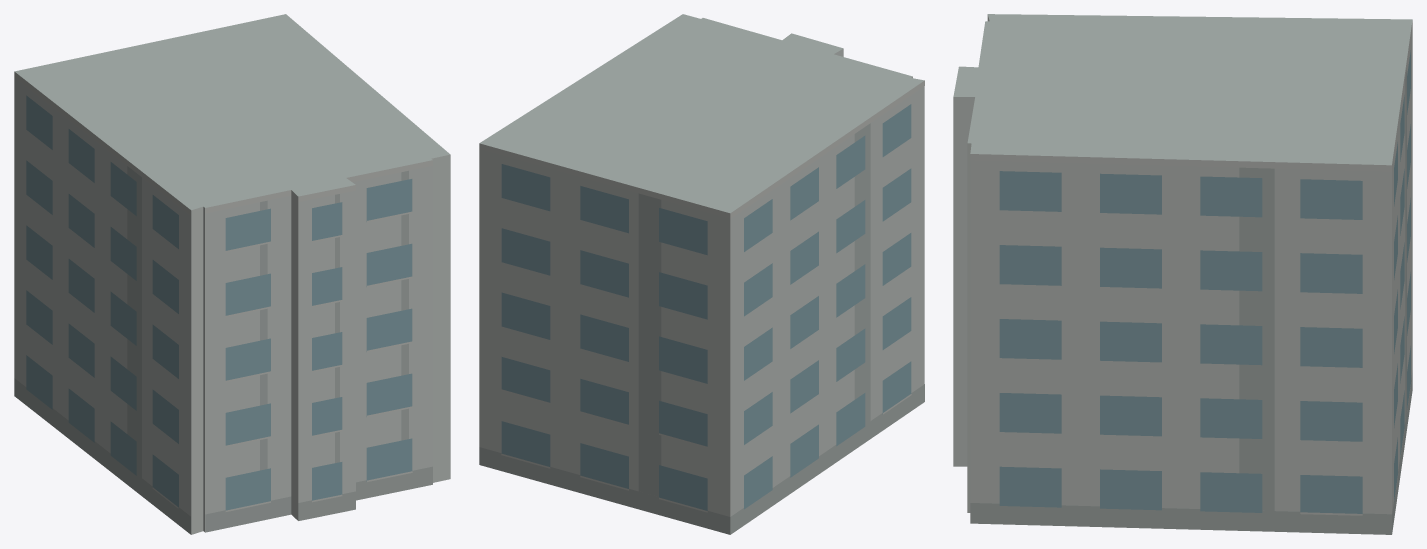
Rendered from survey-upis-32894380.glb.
3 views of the same model, side by side, from view 1: azimuth 30°, elevation 25°; view 2: azimuth 150°, elevation 25°; view 3: azimuth 270°, elevation 25° (orthographic). The views are drawn at different scales.
Parts seen in each view (by area): view 1: survey-upis-32894380.tmp; view 2: survey-upis-32894380.tmp; view 3: survey-upis-32894380.tmp.
Part boxes in pixels (x1,y1,x2,y2): survey-upis-32894380.tmp: (14, 14, 450, 534); survey-upis-32894380.tmp: (479, 14, 924, 534); survey-upis-32894380.tmp: (953, 14, 1412, 534).
Size of the model in its own units: 12.21 by 13.9 by 15.66.
